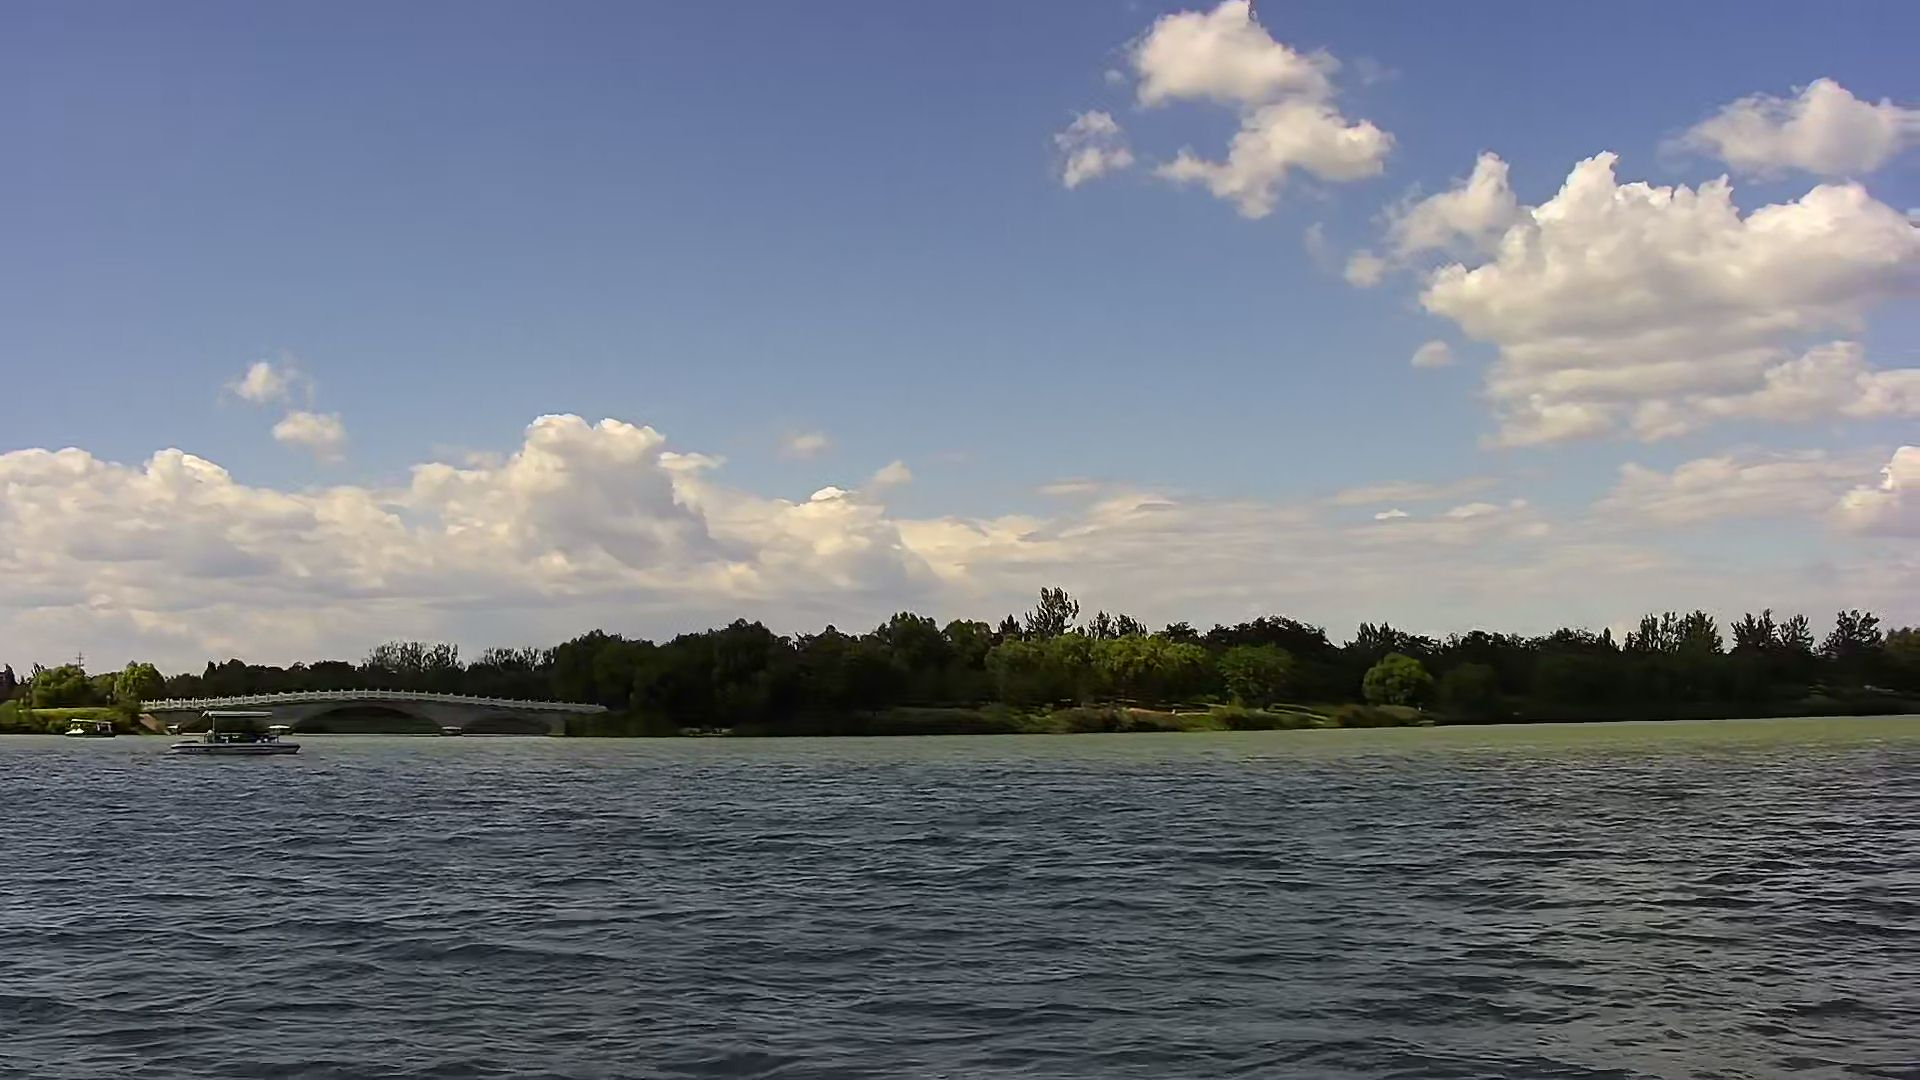boat: (158, 713, 307, 756), (63, 709, 117, 738)
bridge: (132, 688, 607, 744)
